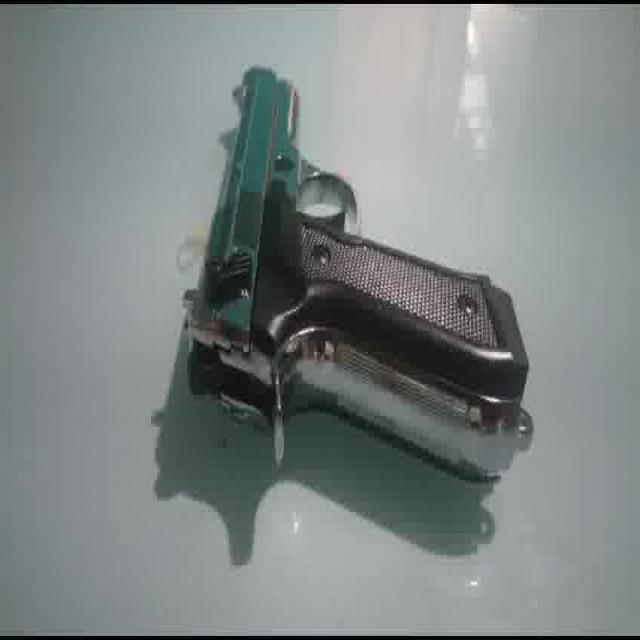weapon: (178, 62, 531, 482)
